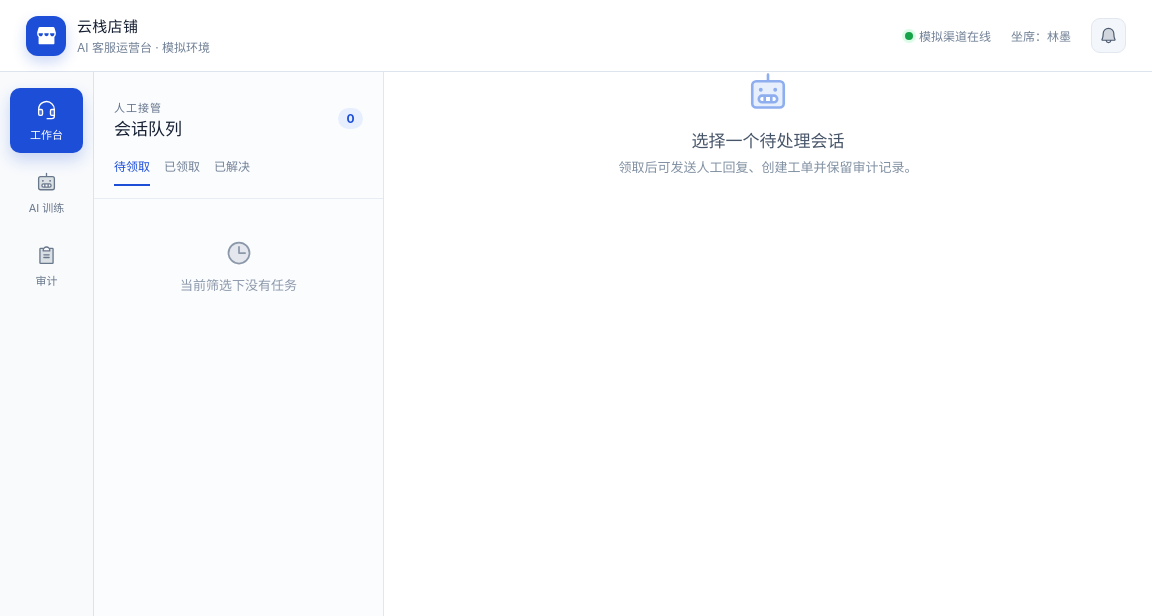
Test: switches from the workbench to AI training
Click the button "AI 训练" at (46,194), box [10,161,83,226]
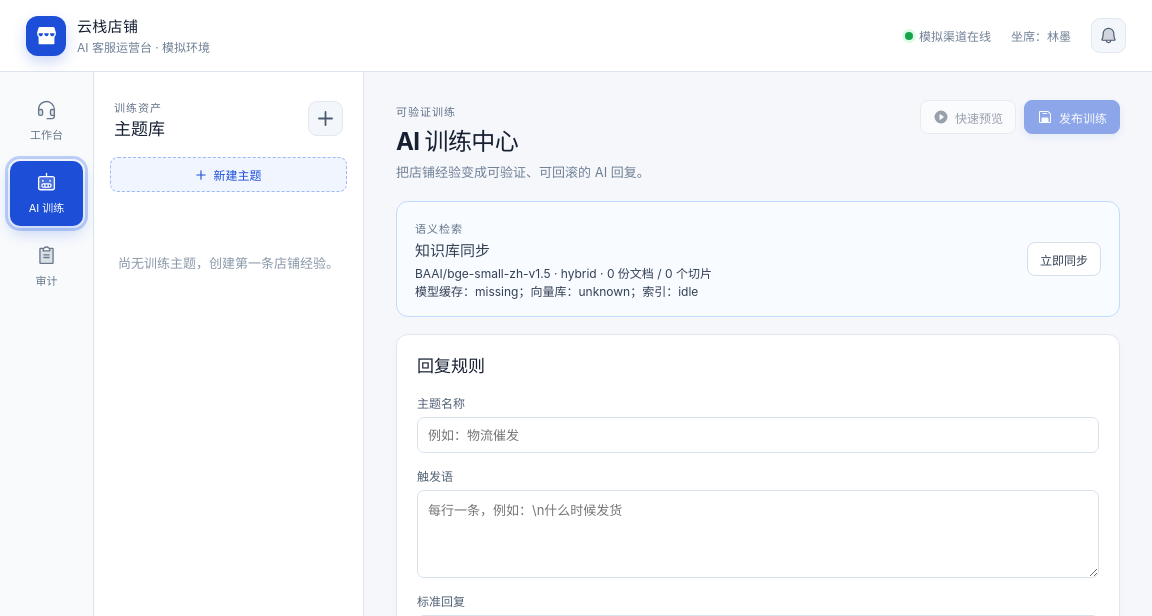
Check: the heading "AI 训练中心" is shown, box [396,127,518,156]
Check: the text "把店铺经验变成可验证、可回滚的 AI 回复。" is shown, box [396,162,650,181]
